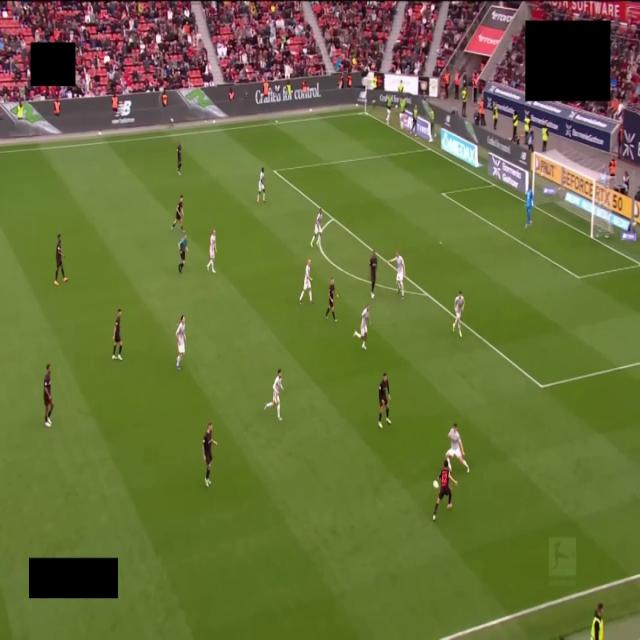ball: (433, 480, 438, 488)
player: (433, 461, 457, 521), (446, 424, 469, 472), (264, 369, 283, 420), (203, 423, 217, 487), (388, 252, 405, 299), (378, 373, 391, 428), (354, 304, 369, 350), (54, 234, 67, 286), (175, 315, 186, 370), (44, 364, 53, 426), (300, 259, 312, 303), (326, 278, 338, 321), (112, 309, 122, 360), (453, 292, 464, 336), (311, 208, 322, 247), (172, 195, 183, 232), (207, 229, 216, 273), (369, 251, 377, 298), (526, 188, 533, 228), (257, 168, 265, 202), (177, 144, 181, 175)
referee: (179, 232, 188, 272)
